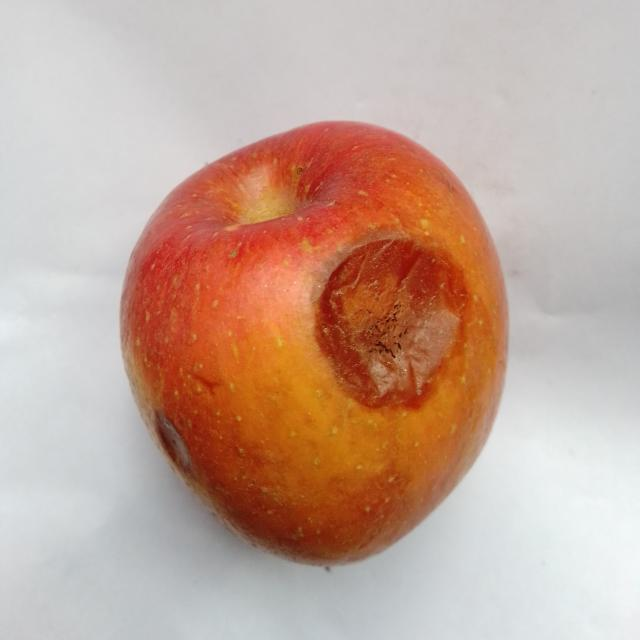apple: (121, 122, 507, 564)
